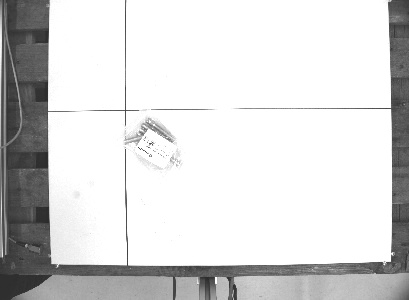t2: (108, 99, 196, 189)
